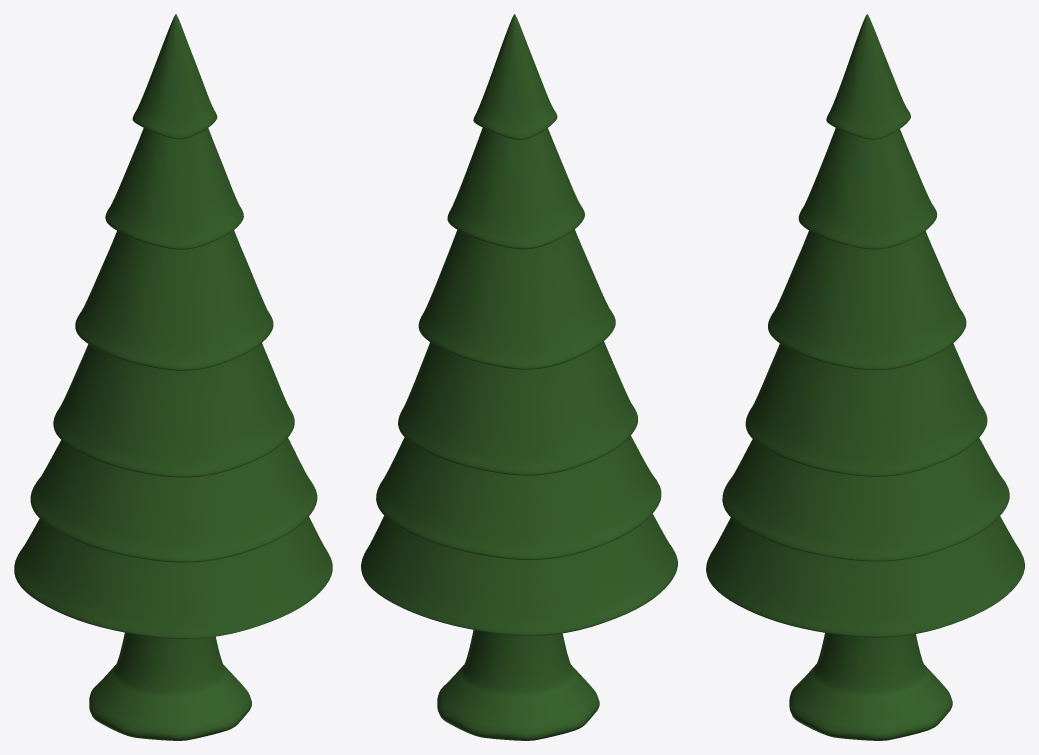
Rendered from GreenTree.fbx.
3 views of the same model, side by side, from view 1: azimuth 30°, elevation 25°; view 2: azimuth 150°, elevation 25°; view 3: azimuth 270°, elevation 25° (orthographic).
Parts seen in each view (by area): view 1: Cylinder; view 2: Cylinder; view 3: Cylinder.
Boxes of the visible parts, x1,y1,x2,y2 form: Cylinder: (14,14,332,740); Cylinder: (361,14,677,740); Cylinder: (706,14,1024,740).
Size of the model in its own units: 0.0575 by 0.14 by 0.0575.
